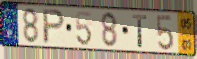5: (155, 14, 175, 52), (75, 10, 94, 47)
8: (21, 7, 41, 45), (100, 11, 120, 49)
P: (42, 8, 67, 45)
T: (131, 13, 149, 50)
